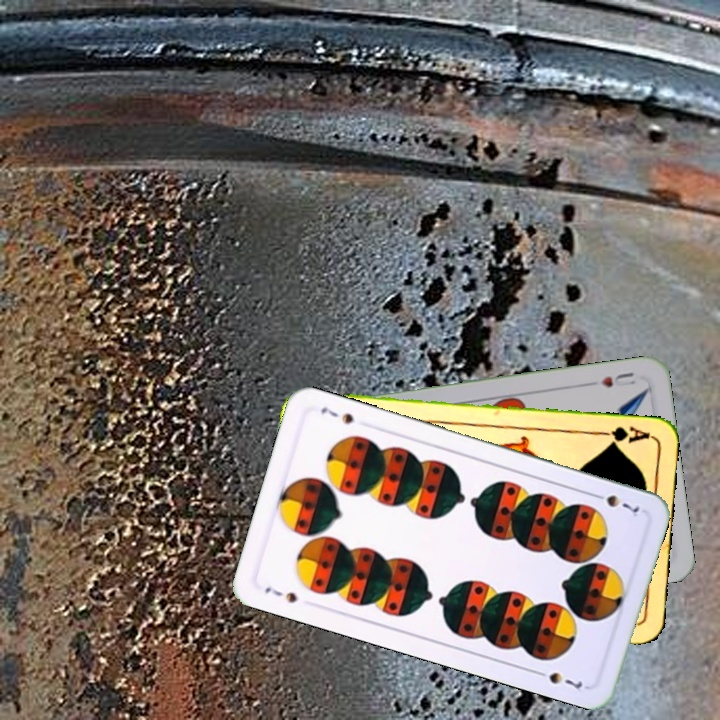GA: (594, 422, 653, 448)
HU: (597, 368, 638, 390)
S7: (587, 489, 643, 520), (261, 582, 300, 606)
